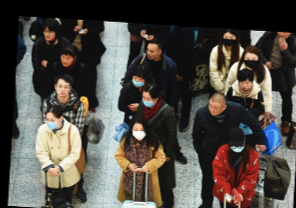with_mask: (131, 125, 147, 141), (44, 115, 59, 129), (130, 74, 145, 88), (243, 54, 258, 68), (141, 93, 155, 107), (222, 34, 236, 47), (230, 144, 245, 152)
without_mask: (54, 81, 70, 97), (207, 101, 221, 116), (60, 52, 74, 66), (145, 46, 158, 59), (43, 27, 55, 41), (239, 79, 252, 90)
